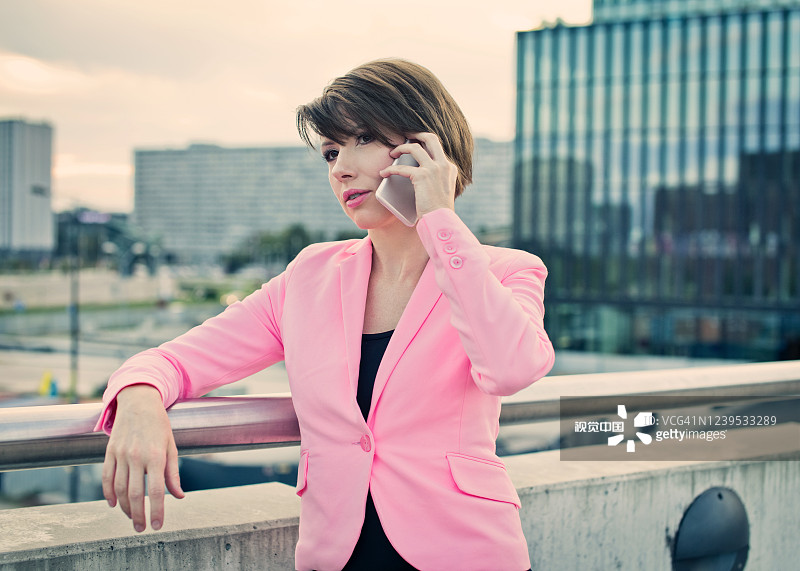calling: (363, 116, 481, 240)
no-phone: (74, 392, 227, 545)
